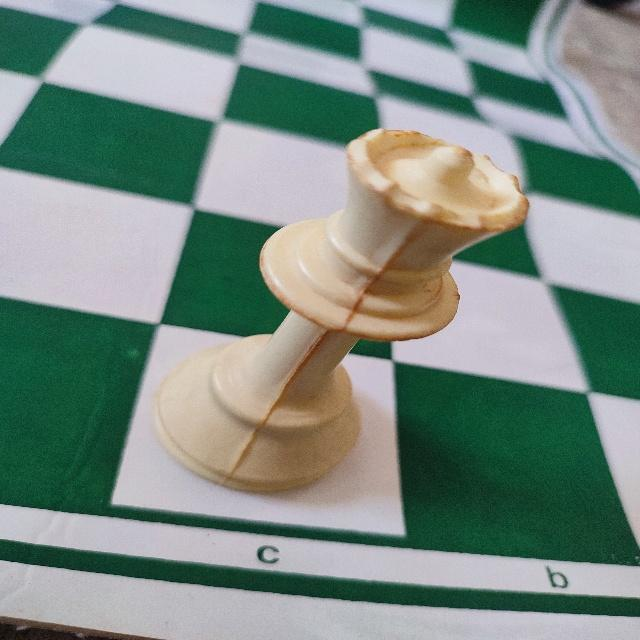Queen: (150, 123, 532, 498)
